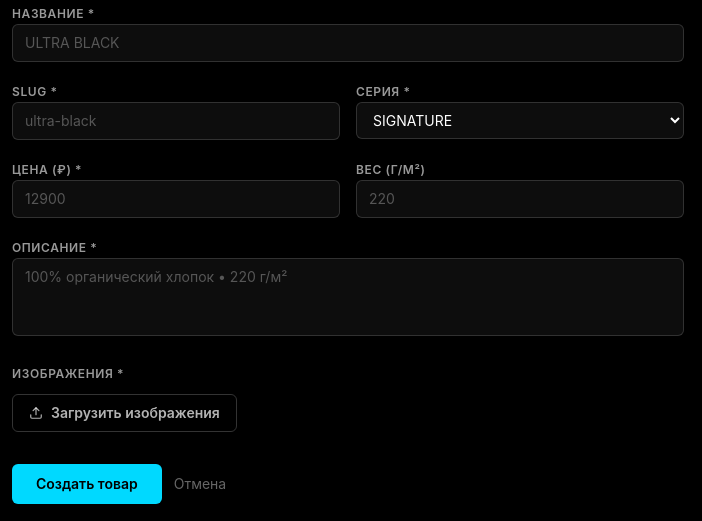
Scenario: ProductForm — slug generation › does NOT auto-update slug after user manually edits it
The width and height of the screenshot is (702, 521).
Type "VOID" into the field with placeholder "ULTRA BLACK". click: (348, 43)
box: [12, 24, 684, 62]
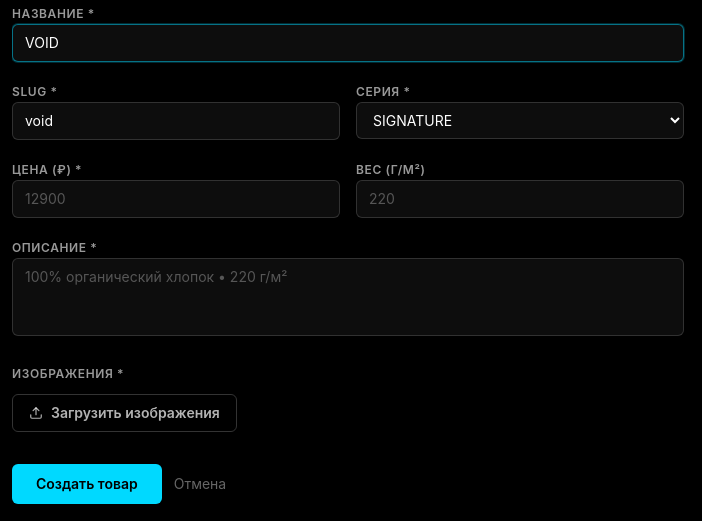
Expected: the field with placeholder "ultra-black" below "Slug *" holds "void", [12, 102, 340, 140]
